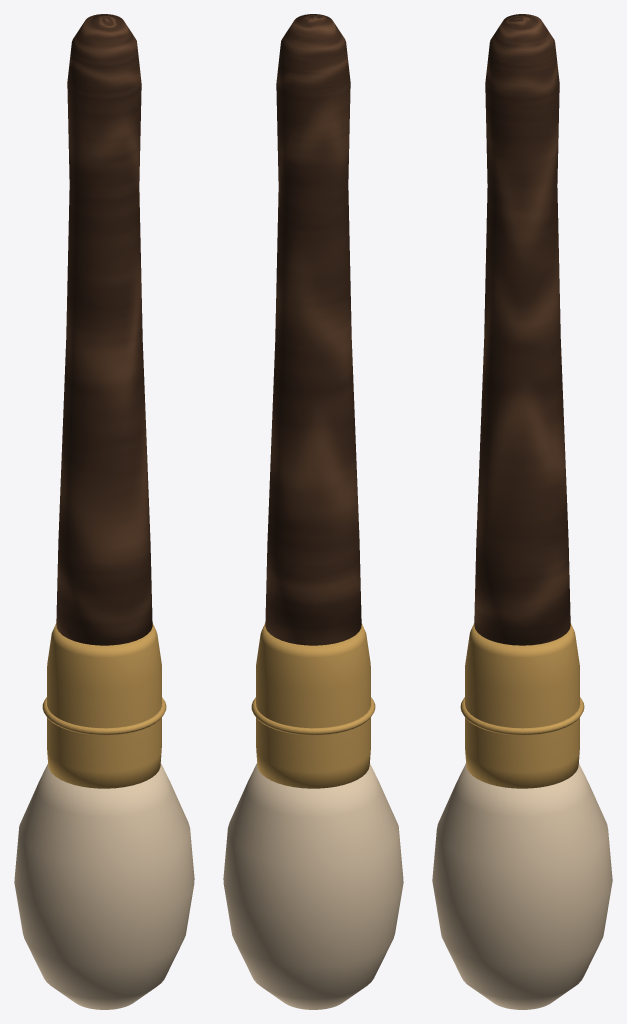
The model's file is PH_Brush.glb.
3 views of the same model, side by side, from view 1: azimuth 30°, elevation 25°; view 2: azimuth 150°, elevation 25°; view 3: azimuth 270°, elevation 25° (orthographic).
Visible parts, largest first — view 1: PH_Brush_Handle, PH_Brush_Bristles, PH_Brush_Ferrule, PH_Brush_Crimp; view 2: PH_Brush_Handle, PH_Brush_Bristles, PH_Brush_Ferrule, PH_Brush_Crimp; view 3: PH_Brush_Handle, PH_Brush_Bristles, PH_Brush_Ferrule, PH_Brush_Crimp.
Part boxes in pixels (x1,y1,x2,y2): PH_Brush_Handle: (56,14,152,645); PH_Brush_Bristles: (14,763,194,1009); PH_Brush_Ferrule: (47,623,161,788); PH_Brush_Crimp: (42,697,166,735); PH_Brush_Handle: (265,14,361,645); PH_Brush_Bristles: (223,763,403,1009); PH_Brush_Ferrule: (256,623,370,788); PH_Brush_Crimp: (251,697,375,735); PH_Brush_Handle: (474,14,570,645); PH_Brush_Bristles: (432,763,612,1009); PH_Brush_Ferrule: (465,623,579,788); PH_Brush_Crimp: (460,697,584,735).
Bounding box in the file's own units: 0.032 × 0.193 × 0.032.
Materials: 3 (1 with a texture image).
